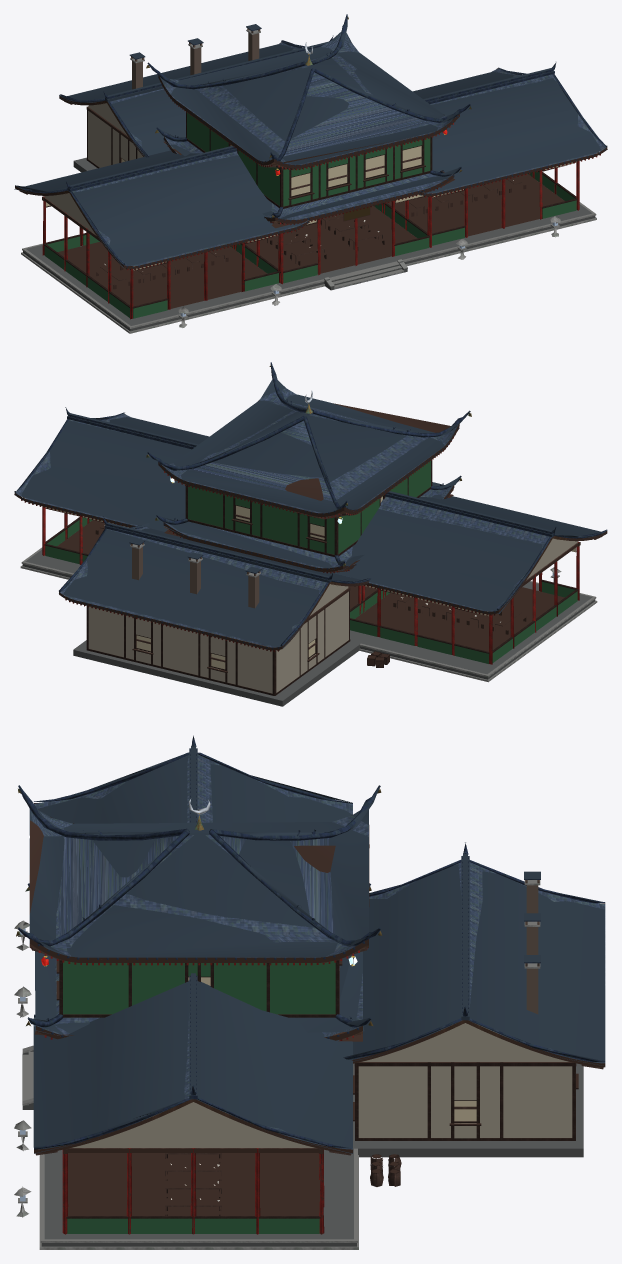
Rendered from prop_refectory.gltf.
3 renders of one model, top to bottom at view 1: azimuth 30°, elevation 25°; view 2: azimuth 150°, elevation 25°; view 3: azimuth 270°, elevation 25°, orthographic. The views are drawn at different scales.
Parts seen in each view (by area): view 1: Far, Near; view 2: Far, Near; view 3: Far, Near.
Boxes of the visible parts, x1,y1,x2,y2 form: Far: (14,17,607,331); Near: (15,14,607,333); Far: (14,367,607,706); Near: (14,362,607,695); Far: (14,746,605,1247); Near: (14,735,605,1249).
Bounding box in the file's own units: 42.24 × 16.04 × 30.14.
31 materials, 18 textured.
